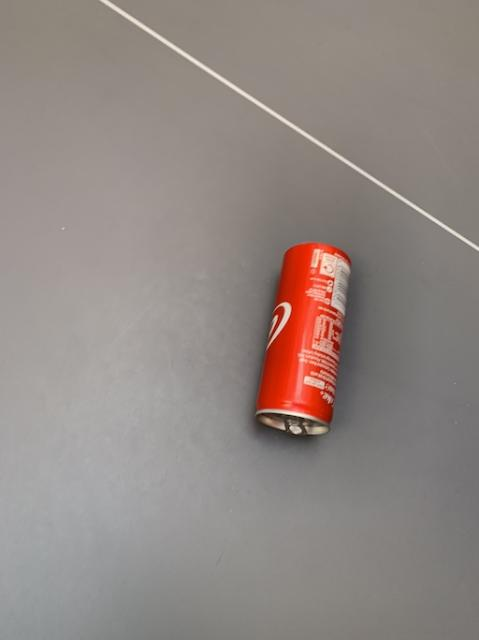metal: (256, 242, 350, 434)
